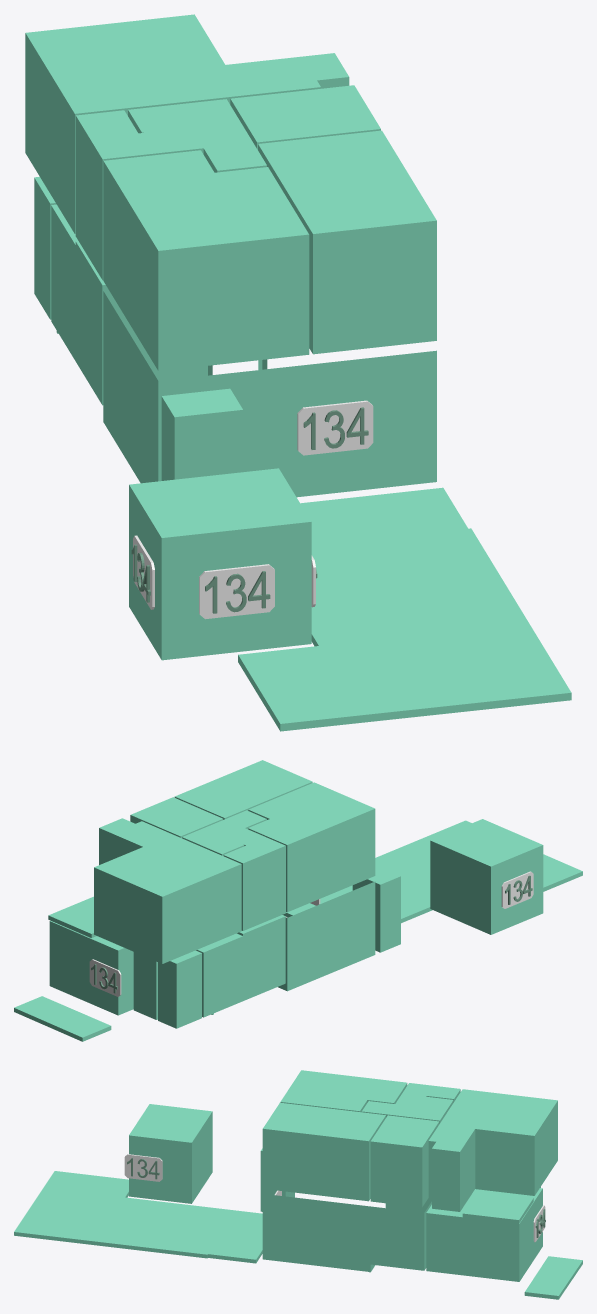
3 views of the same model, one above another, from view 1: azimuth 30°, elevation 25°; view 2: azimuth 150°, elevation 25°; view 3: azimuth 270°, elevation 25° (orthographic). The views are drawn at different scales.
Visible parts, largest first — view 1: g_13, g_6, g_1, g_7, g_5, g_10, g_2, g_4, g_9, g_8, g_11, g_18 (+2 smaller); view 2: g_10, g_6, g_5, g_2, g_1, g_0, g_13, g_7, g_11, g_3, g_4, g_12 (+5 smaller); view 3: g_13, g_10, g_1, g_7, g_0, g_5, g_9, g_6, g_14, g_8, g_12, g_26 (+2 smaller).
Part boxes in pixels (x1,y1,x2,y2): g_13: (238,487,571,731); g_6: (103,150,309,371); g_1: (103,291,436,497); g_7: (258,130,436,354); g_5: (129,468,311,660); g_10: (25,14,349,233); g_2: (51,204,207,405); g_4: (161,388,243,480); g_9: (230,85,380,149); g_8: (128,99,266,172); g_11: (75,110,158,280); g_18: (297,400,373,455); g_10: (94,818,241,963); g_6: (248,782,375,912); g_5: (430,819,543,934); g_2: (133,915,285,1019); g_1: (278,881,375,991); g_0: (49,920,133,1015); g_13: (282,820,582,923); g_7: (174,760,312,819); g_11: (223,836,285,930); g_3: (158,950,201,1028); g_4: (352,865,400,952); g_12: (14,996,111,1041); g_13: (14,1171,262,1263); g_10: (428,1089,557,1211); g_1: (262,1194,431,1272); g_7: (262,1102,385,1201); g_0: (426,1188,542,1281); g_5: (129,1104,212,1203); g_9: (370,1115,439,1207); g_6: (280,1070,407,1112); g_14: (462,1191,533,1223); g_8: (362,1094,453,1123); g_12: (524,1256,582,1299); g_26: (124,1154,162,1181).
Size of the model in its own units: 11.14 by 5.35 by 20.46.
